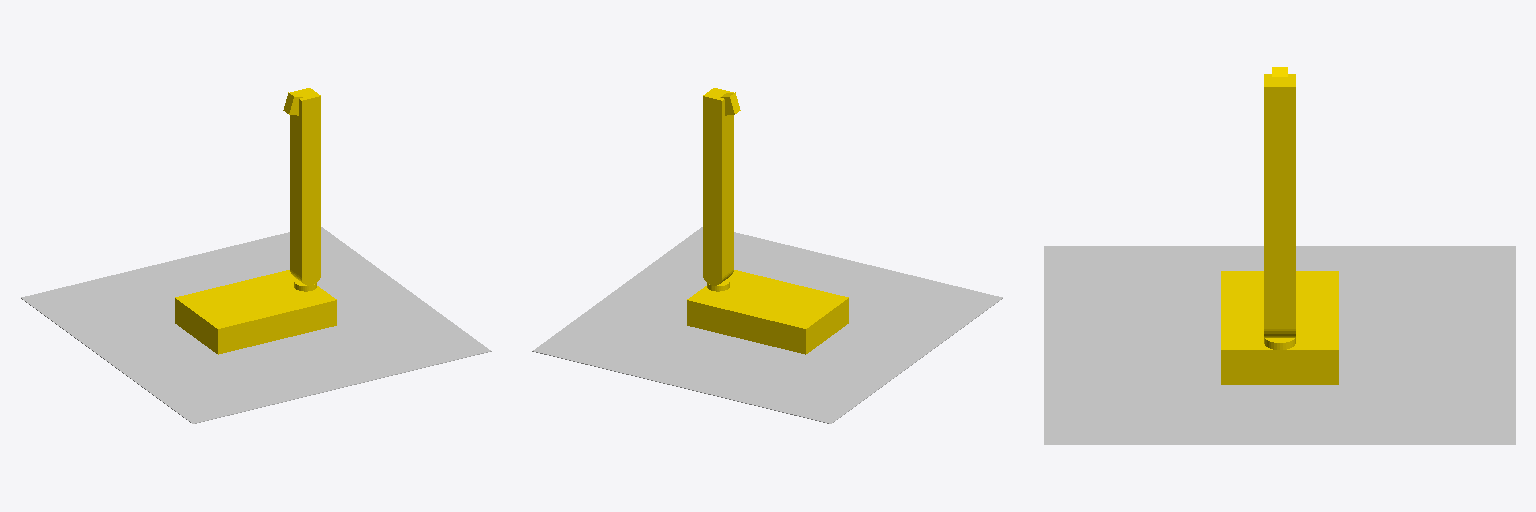
robot.urdf — rover_crane_sawyer:
<?xml version="1.0" ?>
<robot name="rover_crane_sawyer">

    <material name="black">
        <color rgba="0 0 0 1"/>
    </material>
    <material name="gold">
        <color rgba="1 0.882 0 1"/>
    </material>
    <material name="lunar_surface">
        <color rgba="0.85 0.85 0.85 1"/>
    </material>

    <material name="darkgray">
        <color rgba=".2 .2 .2 1"/>
    </material>
    <material name="darkred">
        <color rgba=".5 .1 .1 1"/>
        </material>
    <material name="sawyer_red">
        <color rgba=".5 .1 .1 1"/>
        </material>
    <material name="sawyer_gray">
        <color rgba="0.75294 0.75294 0.75294 1"/>
    </material>

<!-- Start Rover -->
    <!-- Base -->
    <link name="rover_base_link">
        <visual>
            <origin xyz="0 0 0.005" rpy="0 0 0" />
            <geometry>
               <box size="6 6 0.01"/>
            </geometry>
            <material name="lunar_surface"/>
        </visual>
        <collision>
            <origin xyz="0 0 0.005" rpy="0 0 0" />
            <geometry>
                <box size="6 6 0.01"/>
            </geometry>
        </collision>   
        
        <visual>
            <origin xyz="0 0 0.25" rpy="0 0 0" />
            <geometry>
               <box size="2.4 1.5 0.5"/>
            </geometry>
            <material name="gold"/>
        </visual>
        <collision>
            <origin xyz="0 0 0.25" rpy="0 0 0" />
            <geometry>
                <box size="2.4 1.5 0.5"/>
            </geometry>
        </collision>   
    </link>
    
    <link name="crane_yaw">
        <visual>
            <origin xyz="0 0 0.05" rpy="0 0 0" />
            <geometry>
               <cylinder length="0.1" radius="0.2"/>
            </geometry>
            <material name="gold"/>
        </visual>
        <collision>
            <origin xyz="0 0 0.05" rpy="0 0 0" />
            <geometry>
                <cylinder length="0.1" radius="0.2"/>
            </geometry>
        </collision>    
    </link>
    
    <joint name="joint0_1" type="revolute">
        <parent link="rover_base_link"/>
        <child link="crane_yaw"/>
        <origin xyz="1.0 0 0.5" rpy="0 0 0"/>
        <axis xyz="0 0 1"/>
        <limit lower="-0.523599" upper="0.523599" effort="0" velocity="0"/>
    </joint>

    <link name="crane_link1">
        <visual>
            <origin xyz="0 0 0" rpy="1.5708 0 0" />
            <geometry>
               <cylinder length="0.4" radius="0.2"/>
            </geometry>
            <material name="gold"/>
        </visual>
        <collision>
            <origin xyz="0 0 0" rpy="1.5708 0 0" />
            <geometry>
                <cylinder length="0.4" radius="0.2"/>
            </geometry>
        </collision>  

        <visual>
            <origin xyz="-1.698 0 0" rpy="0 0 0" />
            <geometry>
               <box size="3.396 0.4 0.4"/>
            </geometry>
            <material name="gold"/>
        </visual>
        <collision>
            <origin xyz="-1.698 0 0" rpy="0 0 0" />
            <geometry>
                <box size="3.396 0.4 0.4"/>
            </geometry>
        </collision>
    </link>


    <joint name="joint0_2" type="revolute">
        <parent link="crane_yaw"/> 
        <child link="crane_link1"/>
        <origin xyz="0 0 0.3" rpy="0 1.5708 0"/>
        <axis xyz="0 1 0"/>
        <limit lower="0.0" upper="1.5708" effort="0" velocity="0"/>
    </joint>


    <link name="crane_link2">
        <visual>
            <origin xyz="1.132 0 0" rpy="0 0 0" />
            <geometry>
               <box size="2.264 0.2 0.2"/>
            </geometry>
            <material name="gold"/>
        </visual>
        <collision>
            <origin xyz="1.132 0 0" rpy="0 0 0" />
            <geometry>
                <box size="2.264 0.2 0.2"/>
            </geometry>
        </collision>
    </link>

    <joint name="joint0_3" type="prismatic">
        <parent link="crane_link1"/>
        <child link="crane_link2"/>
        <origin xyz="-3.396 0 0" rpy="0 0 0"/>
        <axis xyz="-1 0 0"/>
        <limit lower="0.0" upper="2.264" effort="0" velocity="0"/>
    </joint>
    
    <link name="tip">
        <visual>
            <origin xyz="-0.1 0 -0.17" rpy="0 1.5708 0" />
            <geometry>
               <box size="0.34 0.2 0.2"/>
            </geometry>
            <material name="gold"/>
        </visual>
        <collision>
            <origin xyz="-0.1 0 -0.17" rpy="0 1.5708 0" />
            <geometry>
                <box size="0.34 0.2 0.2"/>
            </geometry>
        </collision>   
    </link>

    <joint name="tip_joint" type="fixed">
        <parent link="crane_link2"/>
        <child link="tip"/>
        <origin xyz="0 0 -0.1" rpy="0 -1.261657 0"/>
        <!-- <origin xyz="0 0 -0.1" rpy="0 0 0"/> -->
    </joint>

<!-- START SAWYER -->
  <link name="base"/>

<!-- CHANGE WHERE SAWYER IS PLACED HERE -->
<!-- SAWYER ATTACHED TO ARM TIP
    <joint name="sawyer_rover_fix" type="fixed">
        <parent link="tip"/>
        <child link="base"/>
        <origin xyz="0 0 0" rpy="0 0 0"/>
    </joint>
-->
<!-- <box size="2.4 1.5 0.5"/> -->
<!-- SAWYER ATTACHED TO ROVER DECK
    <joint name="sawyer_rover_fix" type="fixed">
        <parent link="rover_base_link"/>
        <child link="base"/>
        <origin xyz="0 0 0.5" rpy="0 0 0"/>
    </joint>
-->
<!-- SAWYER ATTACHED TO ROVER FRONT BUMPER -->
    <joint name="sawyer_rover_fix" type="fixed">
        <parent link="rover_base_link"/>
        <child link="base"/>
        <origin xyz="-1.0 0.5 0.5" rpy="0 0 0"/>
    </joint>

  <link name="torso">
    <visual>
      <origin rpy="0 0 0" xyz="0 0 0"/>
      <geometry>
        <box size="0.001 0.001 0.001"/>
      </geometry>
      <material name="darkgray">
        <color rgba=".2 .2 .2 1"/>
      </material>
    </visual>
  </link>

  <joint name="right_arm_mount" type="fixed">
    <origin rpy="0 0 0" xyz="0.0 0.0 0.0"/>
    <parent link="base"/>
    <child link="right_arm_base_link"/>
  </joint>

  <joint name="torso_t0" type="fixed">
    <origin rpy="0 0 0" xyz="0 0 0"/>
    <parent link="base"/>
    <child link="torso"/>
  </joint>

  <link name="right_arm_base_link">
    <inertial>
      <origin rpy="0 0 0" xyz="-0.0006241 -2.8025E-05 0.065404"/>
      <mass value="2.0687"/>
      <inertia ixx="0.0067599" ixy="-4.2024E-05" ixz="-6.1904E-07" iyy="0.0067877" iyz="1.5888E-05" izz="0.0074031"/>
    </inertial>
    <visual>
      <origin rpy="0 0 0" xyz="0 0 0"/>
      <geometry>
        <mesh filename="package://../sawyer/meshes/sawyer_pv/base.DAE"/>
      </geometry>
      <material name="sawyer_red"/>
    </visual>
    <collision>
      <origin rpy="0 0 0" xyz="0 0 0.12"/>
      <geometry>
        <cylinder length="0.24" radius="0.08"/>
      </geometry>
    </collision>
  </link>

  <link name="right_l0">
    <inertial>
      <origin rpy="0 0 0" xyz="0.024366 0.010969 0.14363"/>
      <mass value="5.3213"/>
      <inertia ixx="0.053314" ixy="0.0047093" ixz="0.011734" iyy="0.057902" iyz="0.0080179" izz="0.023659"/>
    </inertial>
    <visual>
      <origin rpy="0 0 0" xyz="0 0 0"/>
      <geometry>
        <mesh filename="package://../sawyer/meshes/sawyer_mp3/l0.DAE"/>
      </geometry>
      <material name="sawyer_red"/>
    </visual>
    <collision>
      <origin rpy="0 0 0" xyz="0.08 0 0.23"/>
      <geometry>
        <sphere radius="0.07"/>
      </geometry>
    </collision>
  </link>

  <joint name="right_j0" type="revolute">
    <origin rpy="0 0 0" xyz="0 0 0.08"/>
    <parent link="right_arm_base_link"/>
    <child link="right_l0"/>
    <axis xyz="0 0 1"/>
    <limit effort="80.0" lower="-3.0503" upper="3.0503" velocity="1.74"/>
  </joint>

  <link name="right_torso_itb">
  </link>

  <joint name="right_torso_itb" type="fixed">
    <origin rpy="0 -1.57079632679 0" xyz="-.055 0 .22"/>
    <parent link="right_l0"/>
    <child link="right_torso_itb"/>
    <axis xyz="0 0 1"/>
  </joint>
  <link name="right_l1">
    <inertial>
      <origin rpy="0 0 0" xyz="-0.0030849 -0.026811 0.092521"/>
      <mass value="4.505"/>
      <inertia ixx="0.022398" ixy="-0.00023986" ixz="-0.00029362" iyy="0.014613" iyz="-0.0060875" izz="0.017295"/>
    </inertial>
    <visual>
      <origin rpy="0 0 0" xyz="0 0 0"/>
      <geometry>
        <mesh filename="package://../sawyer/meshes/sawyer_mp3/l1.DAE"/>
      </geometry>
      <material name="sawyer_red"/>
    </visual>
    <collision>
      <origin rpy="0 0 0" xyz="0 0 0.1225"/>
      <geometry>
        <sphere radius="0.07"/>
      </geometry>
    </collision>
  </link>

  <joint name="right_j1" type="revolute">
    <origin rpy="-1.57079632679 1.57079632679 0" xyz="0.081 0.05 0.237"/>
    <parent link="right_l0"/>
    <child link="right_l1"/>
    <axis xyz="0 0 1"/>
    <limit effort="80.0" lower="-3.8095" upper="2.2736" velocity="1.328"/>
  </joint>
  <link name="right_l2">
    <inertial>
      <origin rpy="0 0 0" xyz="-0.00016044 -0.014967 0.13582"/>
      <mass value="1.745"/>
      <inertia ixx="0.025506" ixy="4.4101E-06" ixz="1.4955E-05" iyy="0.0253" iyz="-0.0033204" izz="0.0034179"/>
    </inertial>
    <visual>
      <origin rpy="0 0 0" xyz="0 0 0"/>
      <geometry>
        <mesh filename="package://../sawyer/meshes/sawyer_pv/l2.DAE"/>
      </geometry>
      <material name="sawyer_red"/>
    </visual>
    <collision>
      <origin rpy="0 0 0" xyz="0 0 0.08"/>
      <geometry>
        <cylinder length="0.34" radius="0.06"/>
      </geometry>
    </collision>
  </link>
  <joint name="right_j2" type="revolute">
    <origin rpy="1.57079632679 0 0" xyz="0 -0.14 0.1425"/>
    <parent link="right_l1"/>
    <child link="right_l2"/>
    <axis xyz="0 0 1"/>
    <limit effort="40.0" lower="-3.0426" upper="3.0426" velocity="1.957"/>
  </joint>
  <link name="right_l3">
    <inertial>
      <origin rpy="0 0 0" xyz="-0.0048135 -0.0281 -0.084154"/>
      <mass value="2.5097"/>
      <inertia ixx="0.01016" ixy="-9.7452E-06" ixz="0.00026624" iyy="0.0065685" iyz="0.0030316" izz="0.0069078"/>
    </inertial>
    <visual>
      <origin rpy="0 0 0" xyz="0 0 0"/>
      <geometry>
        <mesh filename="package://../sawyer/meshes/sawyer_pv/l3.DAE"/>
      </geometry>
      <material name="sawyer_red"/>
    </visual>
    <collision>
      <origin rpy="0 0 0" xyz="0 -0.01 -0.12"/>
      <geometry>
        <sphere radius="0.06"/>
      </geometry>
    </collision>
  </link>
  <joint name="right_j3" type="revolute">
    <origin rpy="-1.57079632679 0 0" xyz="0 -0.042 0.26"/>
    <parent link="right_l2"/>
    <child link="right_l3"/>
    <axis xyz="0 0 1"/>
    <limit effort="40.0" lower="-3.0439" upper="3.0439" velocity="1.957"/>
  </joint>
  <link name="right_l4">
    <inertial>
      <origin rpy="0 0 0" xyz="-0.0018844 0.0069001 0.1341"/>
      <mass value="1.1136"/>
      <inertia ixx="0.013557" ixy="1.8109E-05" ixz="0.00013523" iyy="0.013555" iyz="0.0010561" izz="0.0013658"/>
    </inertial>
    <visual>
      <origin rpy="0 0 0" xyz="0 0 0"/>
      <geometry>
        <mesh filename="package://../sawyer/meshes/sawyer_pv/l4.DAE"/>
      </geometry>
      <material name="sawyer_red"/>
    </visual>
    <collision>
      <origin rpy="0 0 0" xyz="0 0 0.11"/>
      <geometry>
        <cylinder length="0.30" radius="0.045"/>
      </geometry>
    </collision>
  </link>
  <joint name="right_j4" type="revolute">
    <origin rpy="1.57079632679 0 0" xyz="0 -0.125 -0.1265"/>
    <parent link="right_l3"/>
    <child link="right_l4"/>
    <axis xyz="0 0 1"/>
    <limit effort="9.0" lower="-2.9761" upper="2.9761" velocity="3.485"/>
  </joint>
  <link name="right_arm_itb">

  </link>
  <joint name="right_arm_itb" type="fixed">
    <origin rpy="0 -1.57079632679 0" xyz="-.055 0 .075"/>
    <parent link="right_l4"/>
    <child link="right_arm_itb"/>
    <axis xyz="0 0 1"/>
  </joint>
  <link name="right_l5">
    <inertial>
      <origin rpy="0 0 0" xyz="0.0061133 -0.023697 0.076416"/>
      <mass value="1.5625"/>
      <inertia ixx="0.0047328" ixy="0.00011526" ixz="4.6269E-05" iyy="0.0029676" iyz="-0.0011557" izz="0.0031762"/>
    </inertial>
    <visual>
      <origin rpy="0 0 0" xyz="0 0 0"/>
      <geometry>
        <mesh filename="package://../sawyer/meshes/sawyer_pv/l5.DAE"/>
      </geometry>
      <material name="sawyer_red"/>
    </visual>
    <collision>
      <origin rpy="0 0 0" xyz="0 0 0.1"/>
      <geometry>
        <sphere radius="0.06"/>
      </geometry>
    </collision>
  </link>
  <joint name="right_j5" type="revolute">
    <origin rpy="-1.57079632679 0 0" xyz="0 0.031 0.275"/>
    <parent link="right_l4"/>
    <child link="right_l5"/>
    <axis xyz="0 0 1"/>
    <limit effort="9.0" lower="-2.9761" upper="2.9761" velocity="3.485"/>
  </joint>
  <link name="right_hand_camera"/>
  <joint name="right_hand_camera" type="fixed">
    <origin rpy="0 1.57079632679 0" xyz="0.039552 -0.033 0.0695"/>
    <parent link="right_l5"/>
    <child link="right_hand_camera"/>
    <axis xyz="0 0 0"/>
  </joint>
  <link name="right_wrist"/>
  <joint name="right_wrist" type="fixed">
    <origin rpy="1.57079632679 0 0" xyz="0 0 0.10541"/>
    <parent link="right_l5"/>
    <child link="right_wrist"/>
    <axis xyz="0 0 0"/>
  </joint>
  <link name="right_l6">
    <inertial>
      <origin rpy="0 0 0" xyz="-8.0726E-06 0.0085838 -0.0049566"/>
      <mass value="0.3292"/>
      <inertia ixx="0.00031105" ixy="1.4771E-06" ixz="-3.7074E-07" iyy="0.00021549" iyz="-8.4533E-06" izz="0.00035976"/>
    </inertial>
    <visual>
      <origin rpy="0 0 0" xyz="0 0 0"/>
      <geometry>
        <mesh filename="package://../sawyer/meshes/sawyer_mp1/l6.DAE"/>
      </geometry>
      <material name="sawyer_red"/>
    </visual>
    <collision>
      <origin rpy="0 0 0" xyz="0 0.015 -0.01"/>
      <geometry>
        <cylinder length="0.05" radius="0.055"/>
      </geometry>
    </collision>
  </link>
  <joint name="right_j6" type="revolute">
    <origin rpy="-1.57079632679 -0.17453 3.1416" xyz="0 -0.11 0.1053"/>
    <parent link="right_l5"/>
    <child link="right_l6"/>
    <axis xyz="0 0 1"/>
    <limit effort="80.0" velocity="2.0" lower="-3.14159" upper="3.14159"/>
  </joint>
  <link name="right_hand">
    <collision>
      <origin rpy="0 0 0" xyz="0 0 0.02"/>
      <geometry>
        <cylinder length="0.03" radius="0.035"/>
      </geometry>
    </collision>
  </link>
  <joint name="right_hand" type="fixed">
    <origin rpy="0 0 1.570796" xyz="0 0 0.0245"/>
    <axis xyz="0 0 1"/>
    <parent link="right_l6"/>
    <child link="right_hand"/>
  </joint>
  <link name="right_l1_2">
    <collision>
      <origin rpy="0 0 0" xyz="0 0 0.035"/>
      <geometry>
        <cylinder length="0.14" radius="0.07"/>
      </geometry>
    </collision>
  </link>
  <joint name="right_j1_2" type="fixed">
    <origin rpy="0 0 0" xyz="0 0 0"/>
    <parent link="right_l1"/>
    <child link="right_l1_2"/>
    <axis xyz="0 0 1"/>
  </joint>
  <link name="right_l2_2">
    <collision>
      <origin rpy="0 0 0" xyz="0 0 0.26"/>
      <geometry>
        <sphere radius="0.06"/>
      </geometry>
    </collision>
  </link>
  <joint name="right_j2_2" type="fixed">
    <origin rpy="0 0 0" xyz="0 0 0"/>
    <parent link="right_l2"/>
    <child link="right_l2_2"/>
    <axis xyz="0 0 1"/>
  </joint>
  <link name="right_l4_2">
    <collision>
      <origin rpy="0 0 0" xyz="0 0.01 0.26"/>
      <geometry>
        <sphere radius="0.06"/>
      </geometry>
    </collision>
  </link>
  <joint name="right_j4_2" type="fixed">
    <origin rpy="0 0 0" xyz="0 0 0"/>
    <parent link="right_l4"/>
    <child link="right_l4_2"/>
    <axis xyz="0 0 1"/>
  </joint>

</robot>

--- What the picture shows (computed from the rendered views, not written in the file) ---
Views: 3 orthographic renders of the robot side by side, from view 1: azimuth 30°, elevation 25°; view 2: azimuth 150°, elevation 25°; view 3: azimuth 270°, elevation 25°.
Model rover_crane_sawyer with 23 links and 22 joints (9 revolute, 1 prismatic, 12 fixed), rooted at rover_base_link, posed every joint at zero.
Visible links, largest first — view 1: rover_base_link, crane_link1; view 2: rover_base_link, crane_link1; view 3: rover_base_link, crane_link1.
Boxes of the visible links, x1,y1,x2,y2 form: rover_base_link: (21,227,491,423); crane_link1: (290,88,320,285); rover_base_link: (532,227,1002,423); crane_link1: (703,88,733,285); rover_base_link: (1044,246,1515,444); crane_link1: (1264,74,1295,337).
Bounding box of the posed robot: 6 × 6 × 4.26 m (x, y, z).
Geometry: only primitive shapes (box / cylinder / sphere) drawn; not drawn: 8 mesh visuals (reference in a form the renderer does not follow).